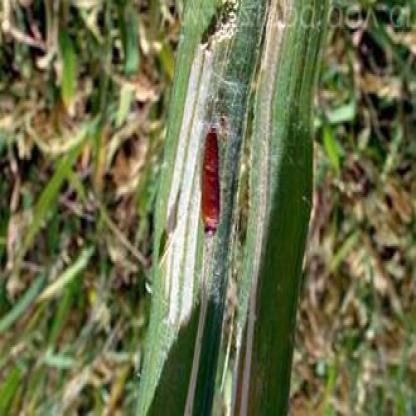leaf-folder: (194, 122, 225, 243)
